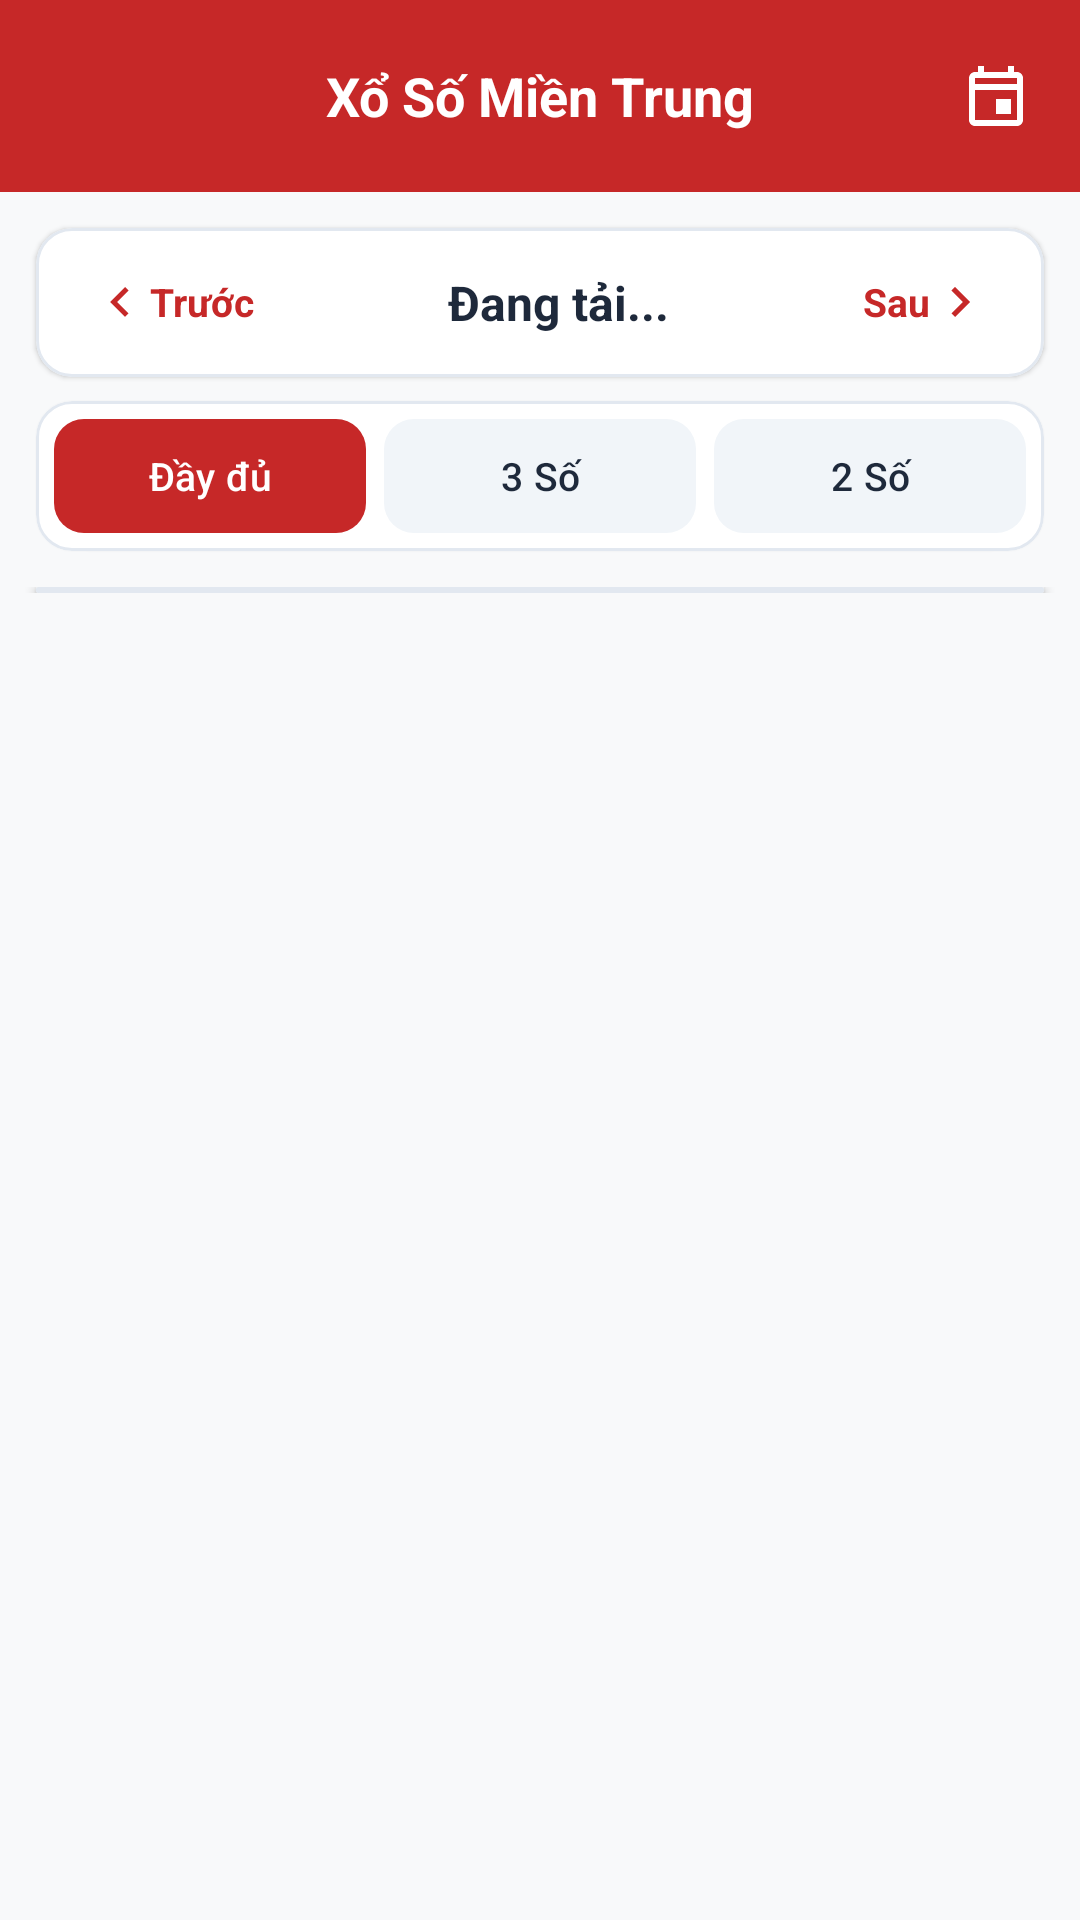

Named icons in this screenshot (1080x1920) and their centers, point (x, y):
calendar: point (996, 96)
chevron left: point (119, 302)
chevron right: point (960, 302)
